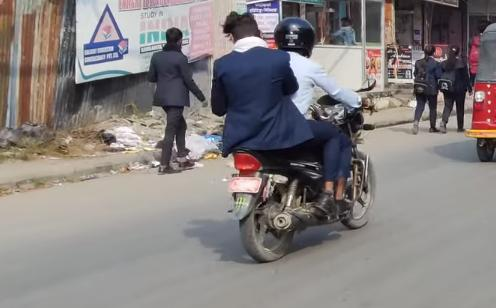bike: (223, 75, 381, 267)
